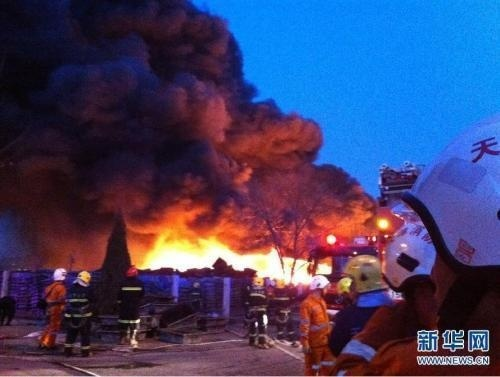fire: (138, 222, 331, 285)
